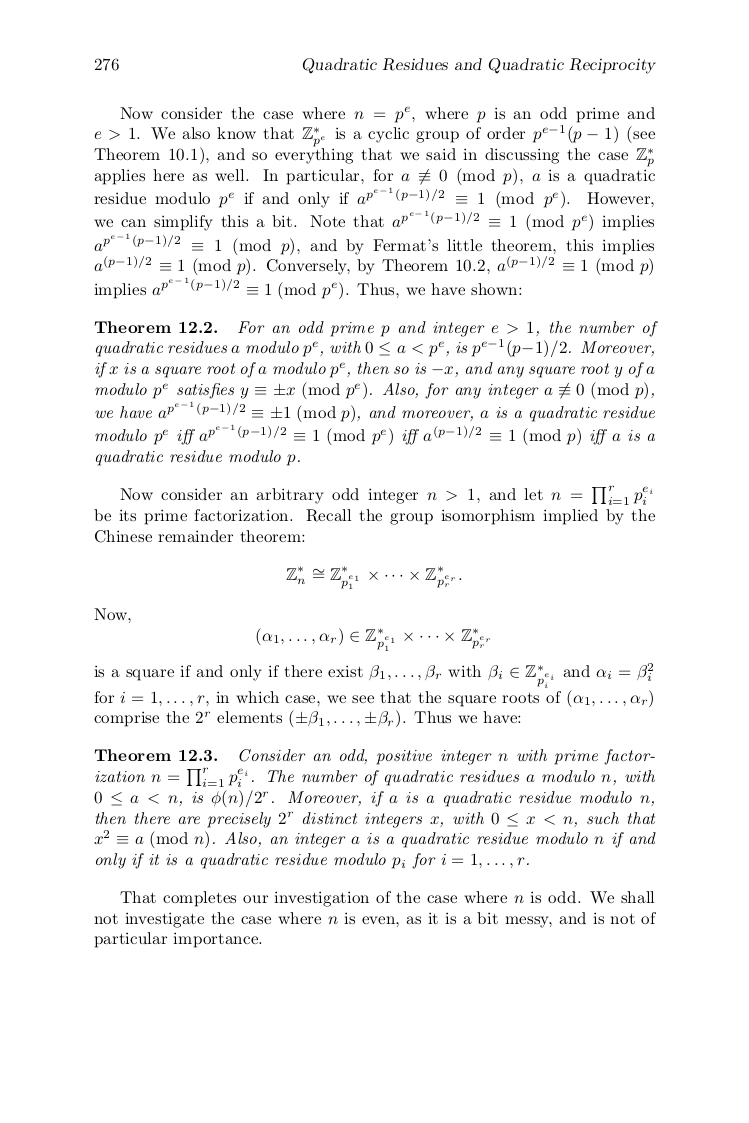formula: (256, 627, 490, 651), (286, 565, 461, 589)
